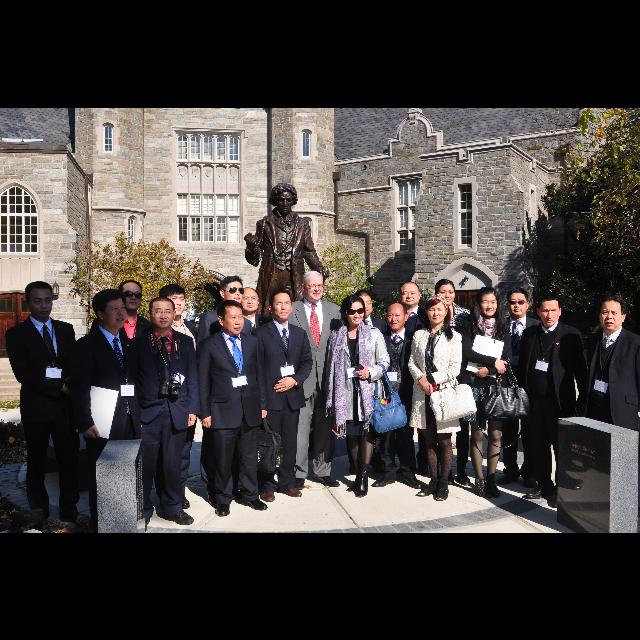head: (92, 288, 128, 328), (23, 279, 54, 319), (598, 296, 628, 330), (147, 296, 177, 328), (217, 300, 245, 334), (158, 282, 186, 314), (536, 294, 562, 326), (218, 275, 244, 305), (268, 289, 294, 319), (118, 278, 142, 310), (425, 292, 449, 324), (342, 294, 366, 324), (506, 286, 530, 316), (302, 270, 324, 300), (387, 301, 409, 329), (434, 277, 456, 305), (477, 288, 499, 316), (398, 281, 422, 305), (240, 286, 260, 312), (353, 290, 373, 316)
person: (2, 278, 92, 530), (64, 286, 148, 532), (514, 292, 600, 508), (126, 293, 202, 532), (324, 291, 411, 499), (88, 276, 154, 520), (278, 269, 350, 491), (459, 284, 533, 498), (199, 297, 269, 517), (406, 292, 478, 502), (140, 282, 206, 510), (249, 285, 315, 503), (195, 273, 255, 507), (492, 285, 548, 489), (424, 277, 478, 487), (222, 285, 276, 493), (372, 300, 423, 488), (346, 286, 396, 476), (384, 278, 432, 474)
